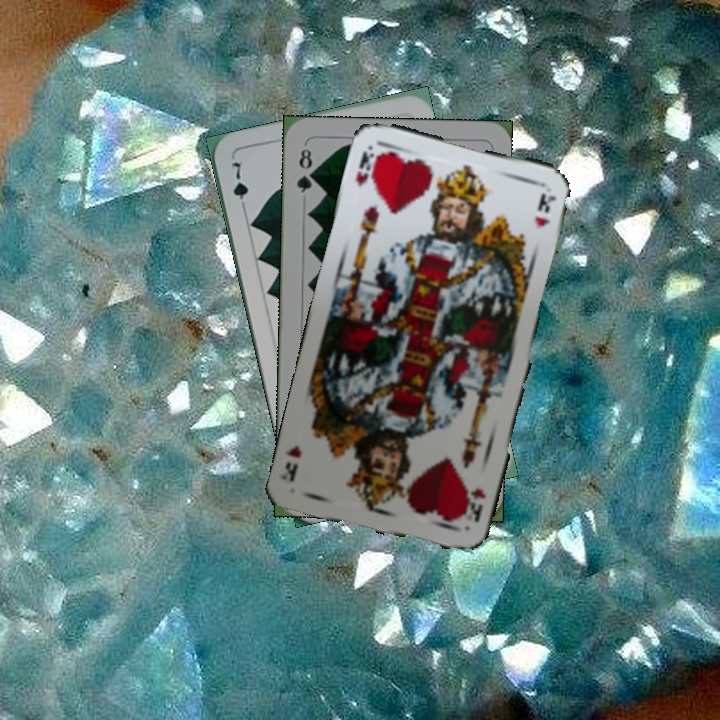G7: (227, 158, 252, 215)
G8: (292, 141, 316, 195)
HK: (351, 143, 383, 189), (456, 484, 488, 525)
